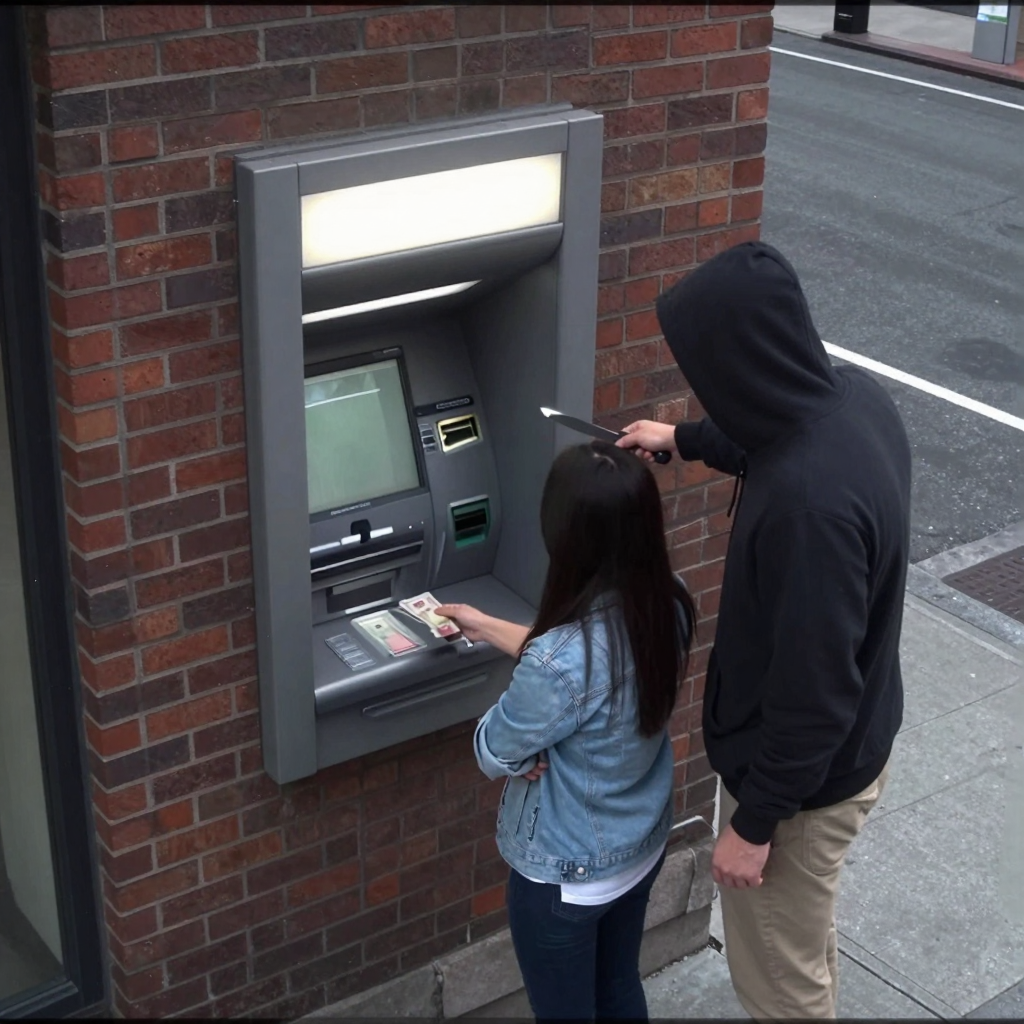Assault: (538, 405, 670, 464)
Robbery: (611, 240, 912, 1018), (431, 441, 699, 1022)
